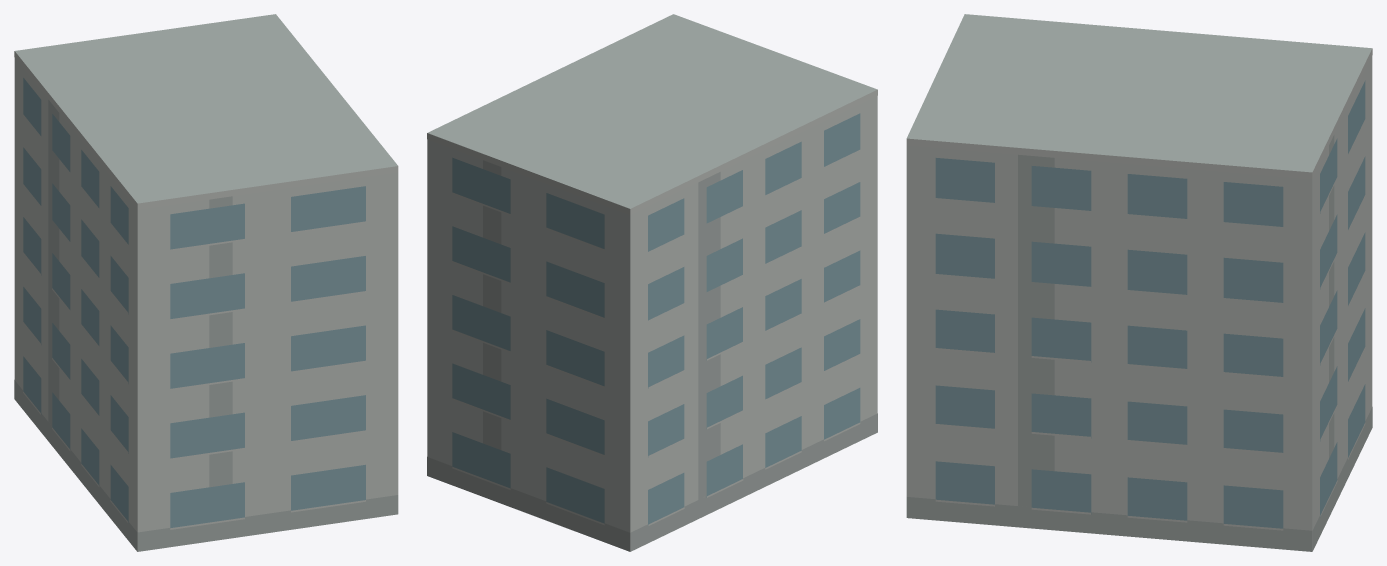
The model's file is survey-upis-32885329.glb.
3 views of the same model, side by side, from view 1: azimuth 30°, elevation 25°; view 2: azimuth 150°, elevation 25°; view 3: azimuth 270°, elevation 25° (orthographic). The views are drawn at different scales.
Parts seen in each view (by area): view 1: survey-upis-32885329.tmp; view 2: survey-upis-32885329.tmp; view 3: survey-upis-32885329.tmp.
Part boxes in pixels (x1,y1,x2,y2): survey-upis-32885329.tmp: [14, 14, 398, 551]; survey-upis-32885329.tmp: [427, 14, 877, 551]; survey-upis-32885329.tmp: [906, 14, 1372, 551].
Size of the model in its own units: 11.92 by 13.3 by 14.81.
